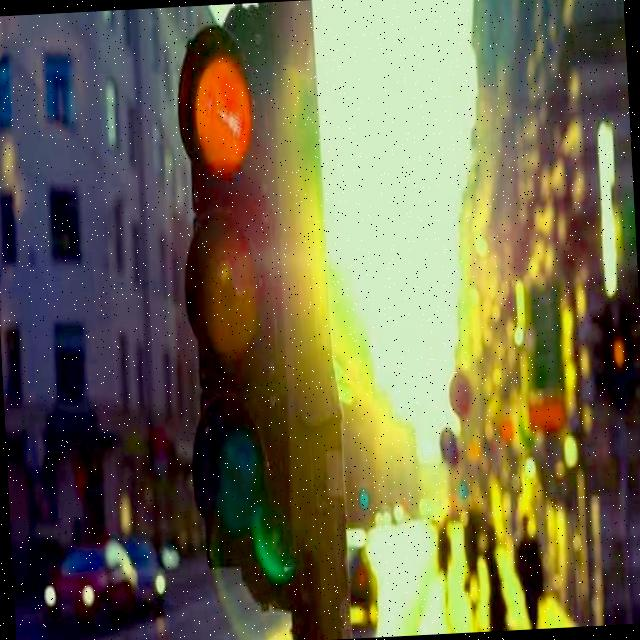Czerwone swiatlo: (170, 22, 294, 556)
